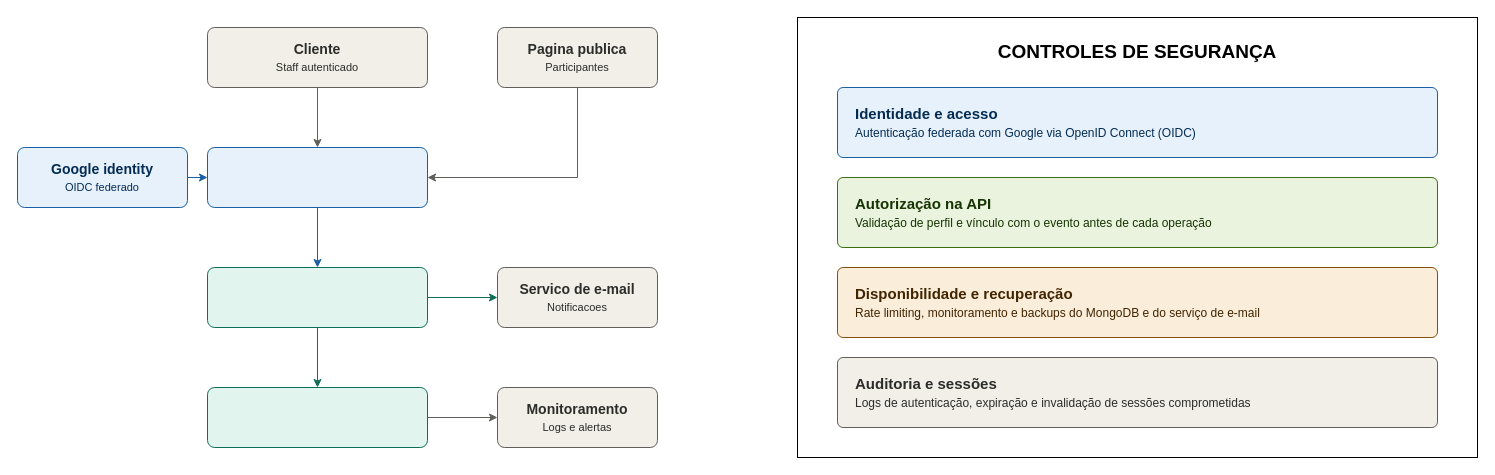
This 1495x475 diagram has some shape labels left out. The shapes that lost their labels are listed below. From the top down, each one's centre as x and y in pixels, then its label:
At (317,177): "API REST Rate limit, auth, logs".
At (317,297): "Servicos de aplicacao Regras e autorizacao".
At (317,417): "Dados MongoDB + backups".
